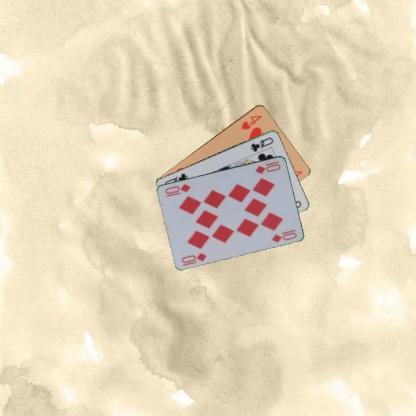10d: (253, 158, 282, 175), (179, 250, 208, 267)
4h: (238, 113, 263, 130)
Qc: (248, 134, 274, 152)
